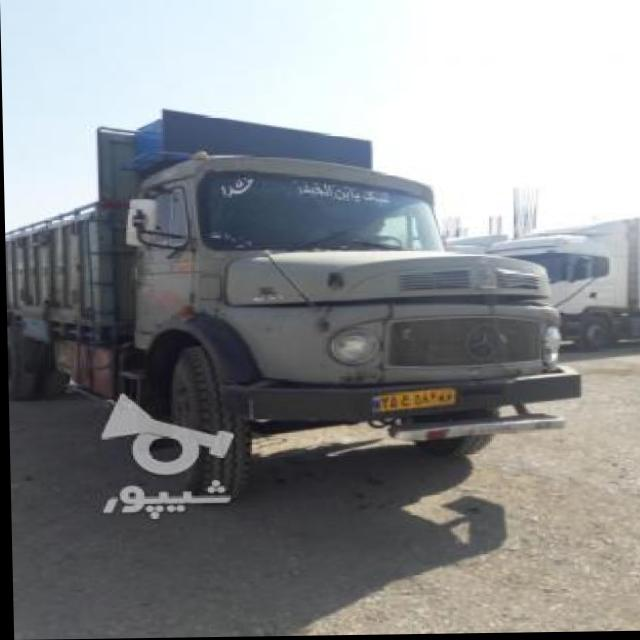licence: (364, 384, 448, 414)
